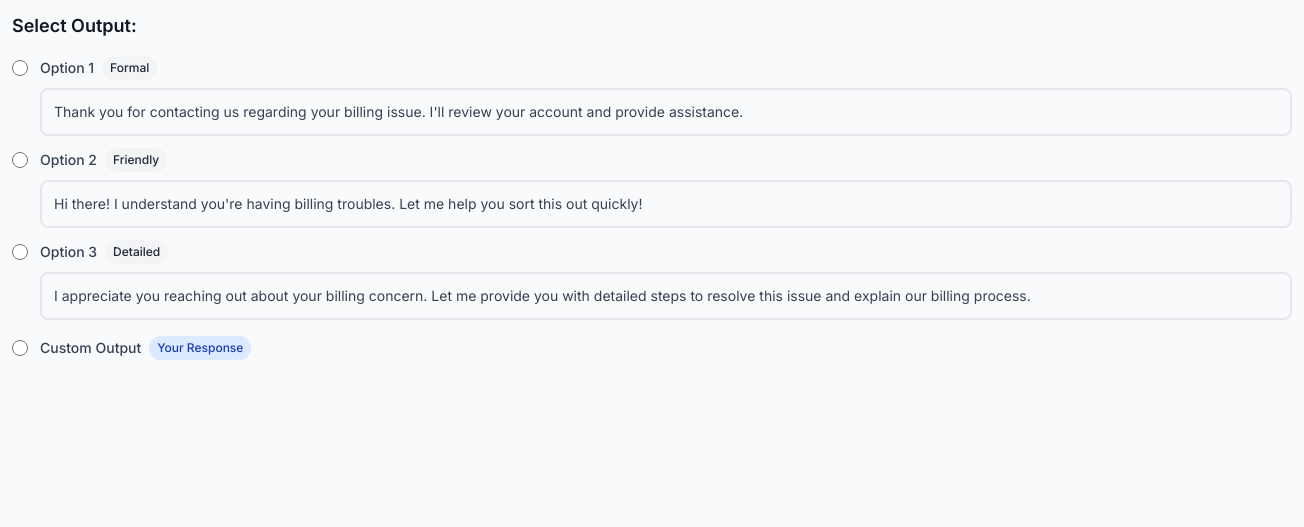
Test: OutputVariationSelector Component › shows custom output input when custom option selected
The width and height of the screenshot is (1304, 527).
User selects custom option
Step 1. Click the radio button showing "custom" → x=20, y=348, box top-left (12, 340), bottom-right (28, 356)
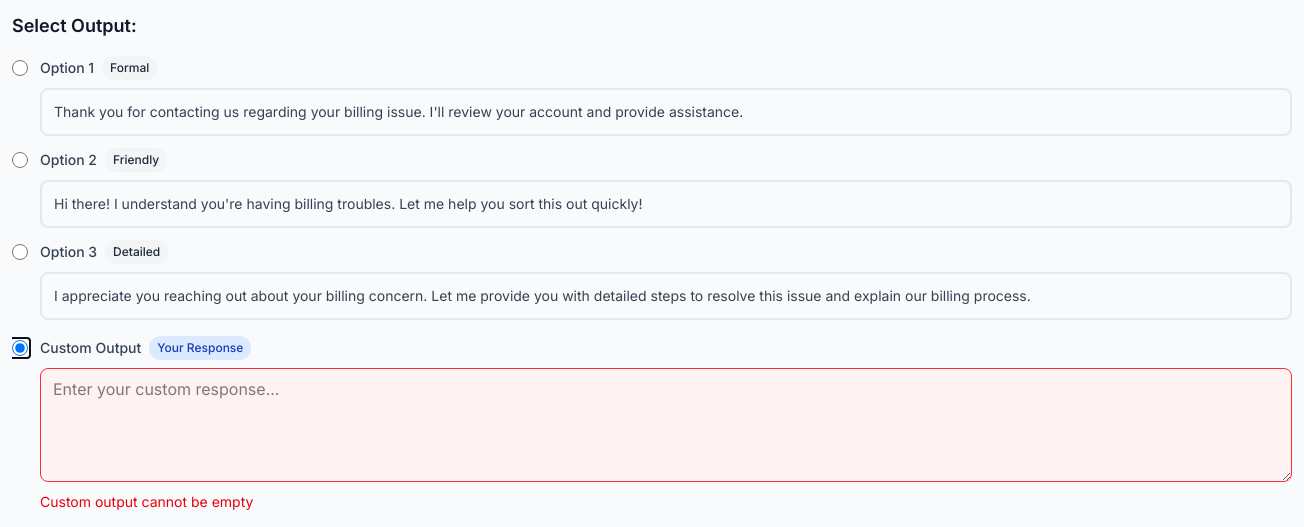
Expected: the text box with placeholder "Enter your custom response..." is shown, top-left (40, 368), bottom-right (1292, 482)
